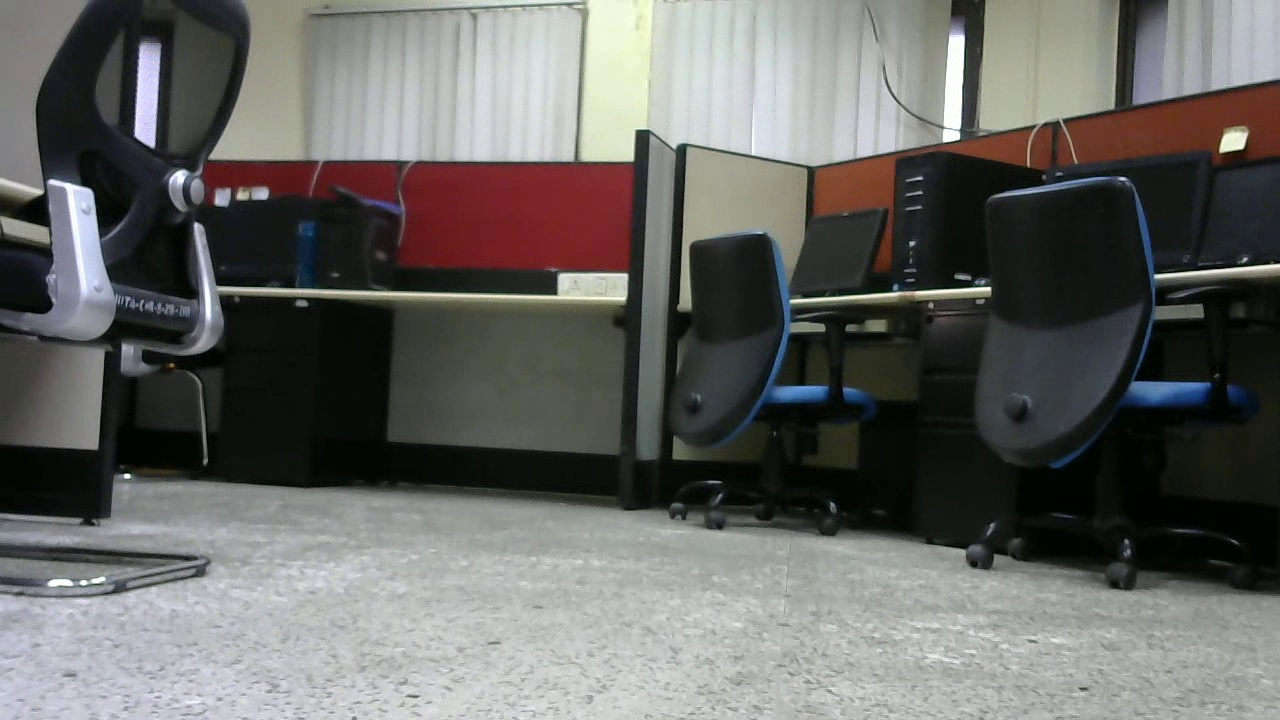chair: (960, 170, 1280, 591), (665, 227, 879, 530)
